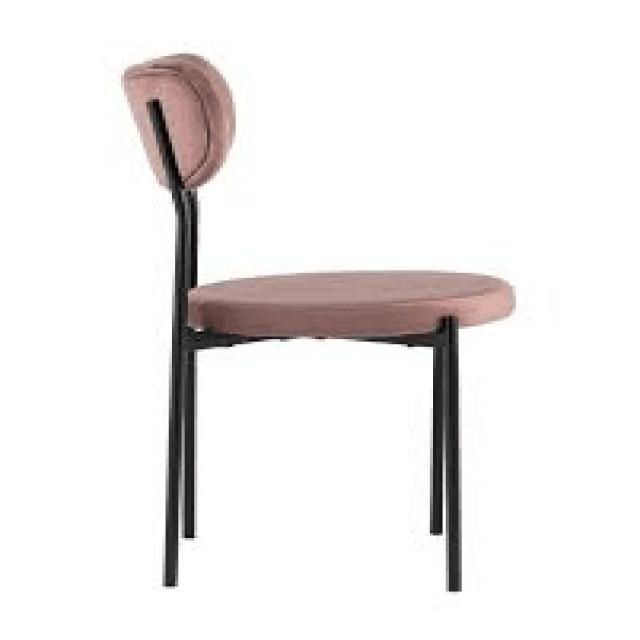chair: (114, 43, 526, 593), (136, 48, 516, 331)
